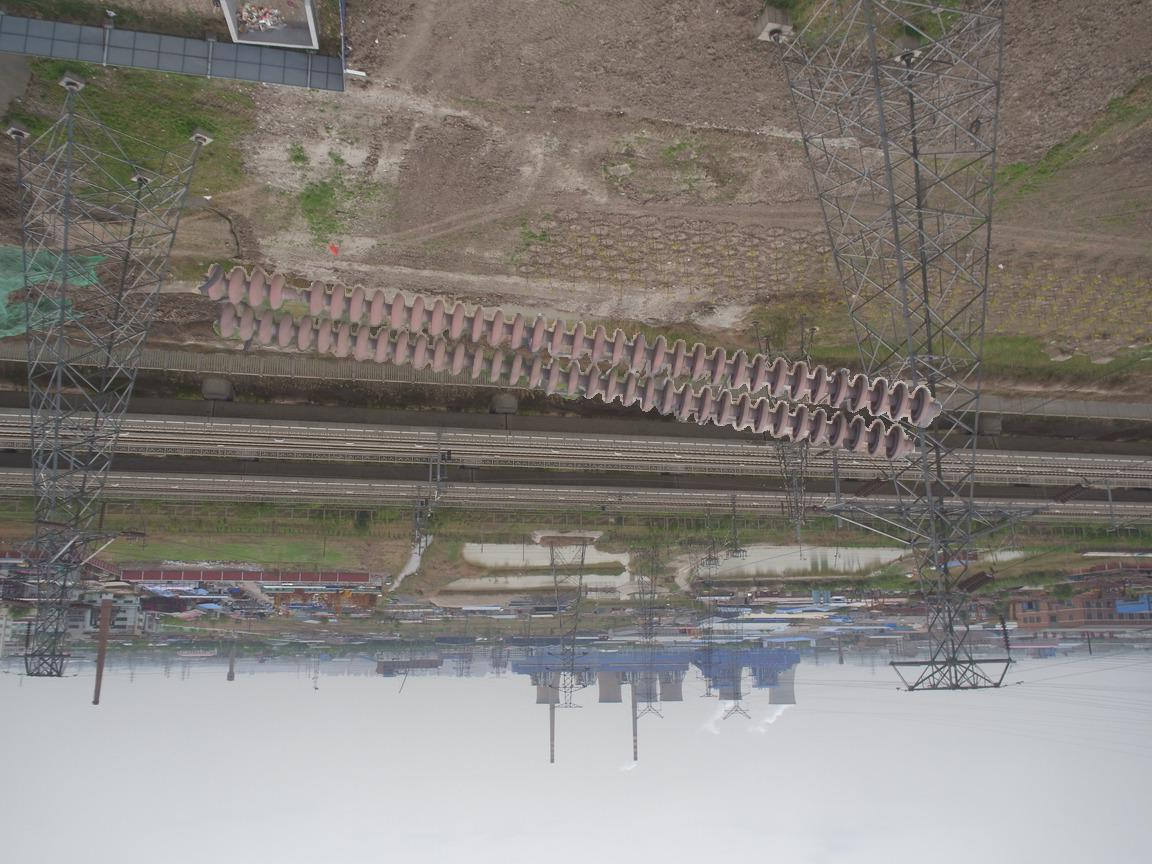insulator: (200, 258, 937, 461)
insulator_stringdrop: (265, 271, 330, 319)
